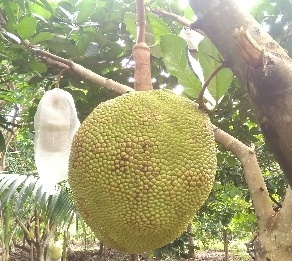Mit: (67, 90, 217, 254)
